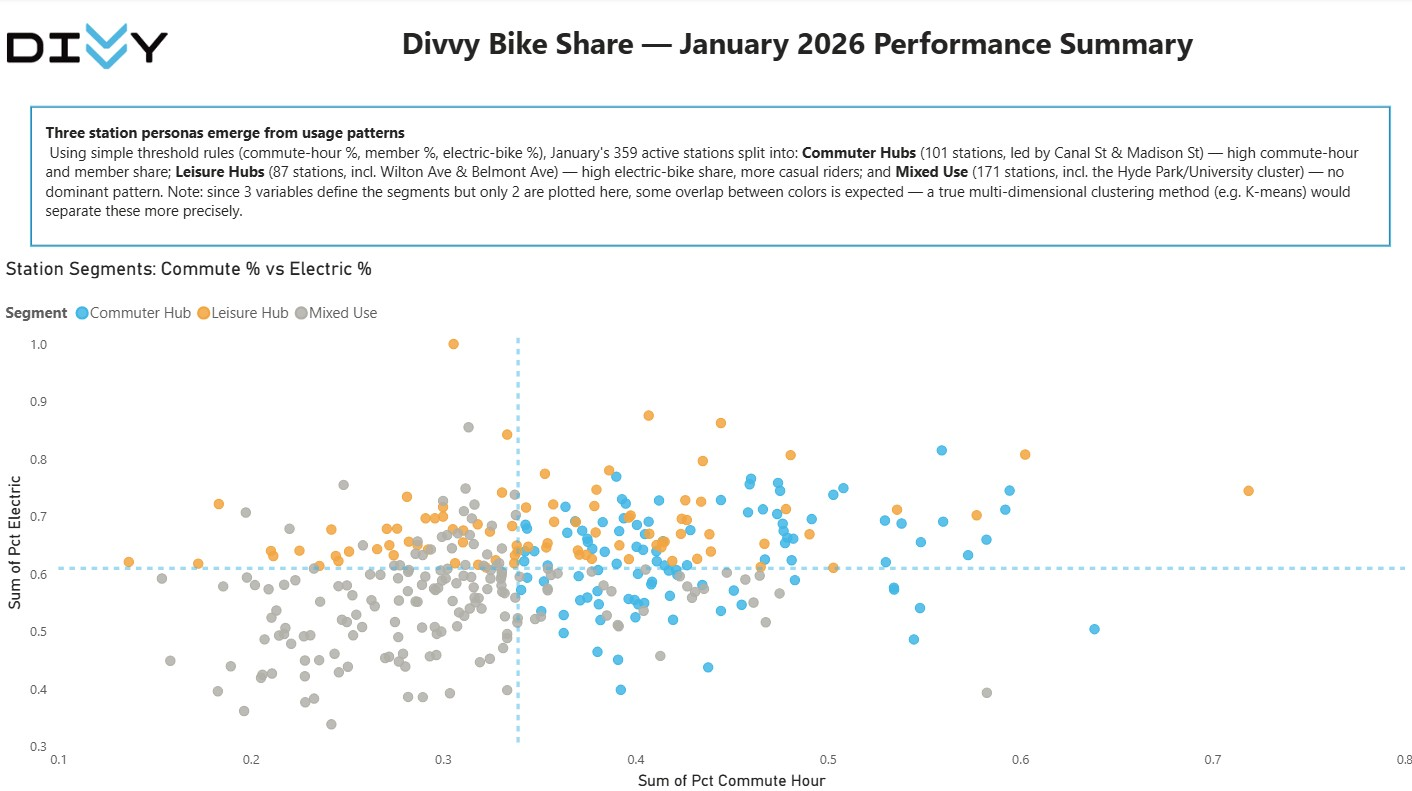

This screenshot's page, from the dashboard's own definition file:
{"tool":"powerbi","page":{"name":"Segmentation - Station Personas","canvas":[1280,720],"ordinal":6},"visuals":[{"type":"image","box":[0,0,157.6,88.5],"z":0},{"type":"textbox","box":[157.4,0,1122.1,88.7],"z":1000},{"type":"scatterChart","title":"Station Segments: Commute % vs Electric %","fields":{"Category":["StationSegments.start_station_name"],"Series":["StationSegments.Segment"],"X":["Sum(StationSegments.Pct Commute Hour)"],"Y":["Sum(StationSegments.Pct Electric)"]},"box":[0,235,1280,485],"z":2000},{"type":"textbox","box":[36.2,108.8,1210,102.5],"z":3000},{"type":"shape","box":[27.5,97.5,1227.5,127.5],"z":4000}]}

Visuals, with their boxes in screenshot pixels (x1, y1, x2, y2), scaled from the page's 1280x720 canvas onto the 1412x791 screenshot:
image: pyautogui.locateOnScreen(0, 0, 174, 97)
textbox: pyautogui.locateOnScreen(174, 0, 1411, 97)
"Station Segments: Commute % vs Electric %" scatterChart: pyautogui.locateOnScreen(0, 258, 1411, 790)
textbox: pyautogui.locateOnScreen(40, 120, 1375, 232)
shape: pyautogui.locateOnScreen(30, 107, 1384, 247)
